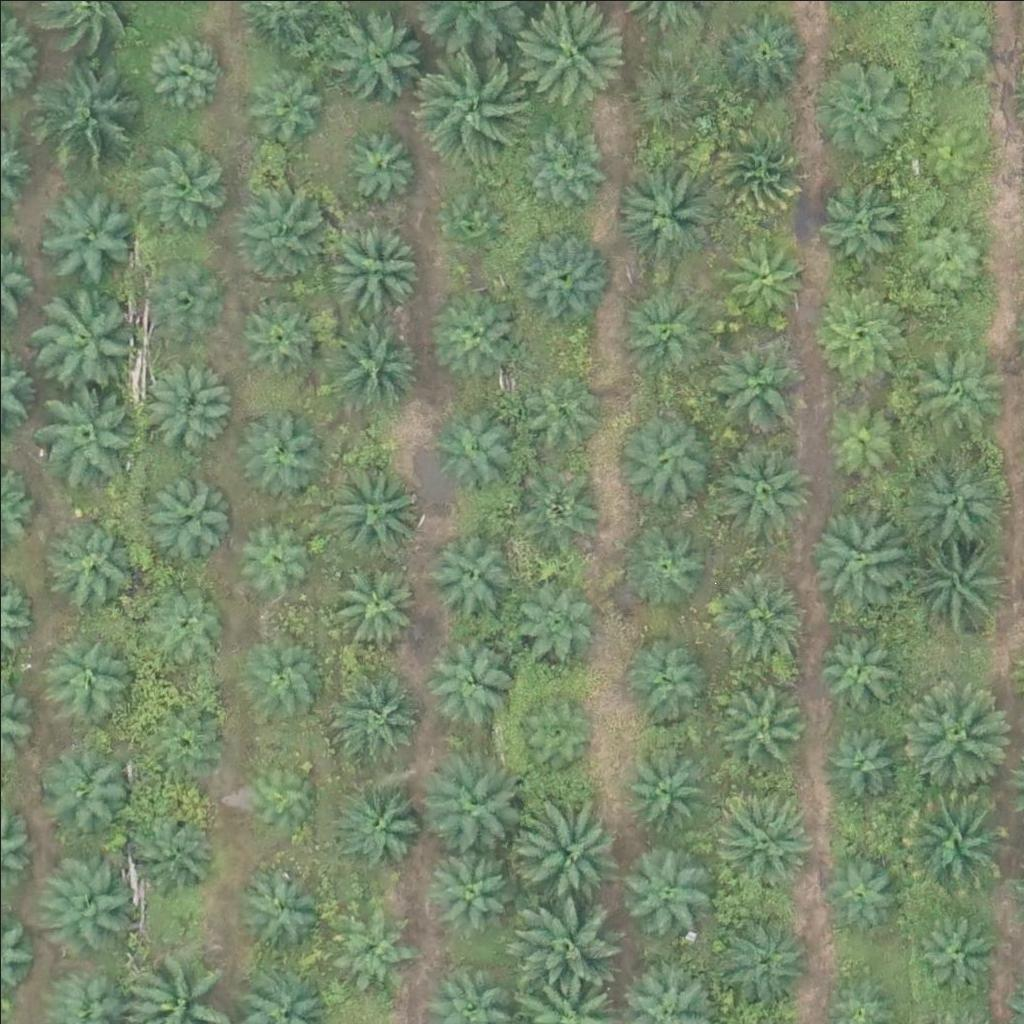Kelapa_Sawit: (29, 275, 142, 389), (30, 51, 142, 165), (411, 46, 523, 160), (896, 780, 1008, 893), (900, 681, 1012, 794), (30, 183, 130, 284), (236, 183, 336, 284), (509, 223, 609, 324), (617, 166, 717, 267), (900, 446, 1000, 547), (904, 332, 1004, 433), (807, 285, 907, 386), (804, 509, 904, 610), (708, 337, 808, 438), (711, 794, 811, 895), (705, 563, 805, 664), (615, 414, 715, 515), (617, 281, 717, 382), (521, 807, 621, 908), (418, 751, 518, 852), (323, 455, 423, 556), (320, 315, 420, 416), (118, 801, 218, 902), (45, 505, 145, 606), (30, 380, 130, 481), (322, 217, 422, 317), (328, 1, 428, 101), (813, 55, 913, 155), (704, 120, 804, 220), (713, 436, 813, 536), (514, 890, 614, 990), (228, 855, 328, 955), (35, 848, 135, 948), (141, 25, 229, 114), (331, 774, 419, 863), (133, 136, 221, 224), (239, 63, 327, 151), (627, 46, 715, 134), (518, 115, 606, 203), (722, 230, 810, 318), (717, 7, 805, 95), (716, 907, 804, 995), (622, 636, 710, 724), (621, 516, 709, 604), (507, 572, 595, 660), (514, 458, 602, 546), (421, 840, 509, 928), (429, 629, 517, 717), (425, 528, 513, 616), (433, 399, 521, 487), (328, 905, 416, 993), (331, 669, 419, 757), (135, 690, 223, 778), (44, 742, 132, 830), (48, 630, 136, 718), (904, 209, 992, 297), (816, 620, 903, 709), (620, 749, 707, 838), (823, 179, 910, 267), (907, 910, 994, 998), (914, 523, 1001, 611), (913, 96, 1000, 184), (815, 399, 902, 487), (817, 846, 904, 934), (812, 716, 899, 804), (718, 678, 805, 766), (620, 840, 707, 928), (517, 363, 604, 451), (514, 681, 601, 769), (427, 283, 514, 371), (329, 555, 416, 643), (234, 291, 321, 379), (234, 409, 321, 497), (227, 513, 314, 601), (239, 636, 326, 724), (140, 573, 227, 661), (141, 464, 228, 552), (144, 356, 231, 444), (241, 754, 316, 830), (342, 125, 417, 201), (142, 258, 217, 334), (444, 194, 506, 257)
